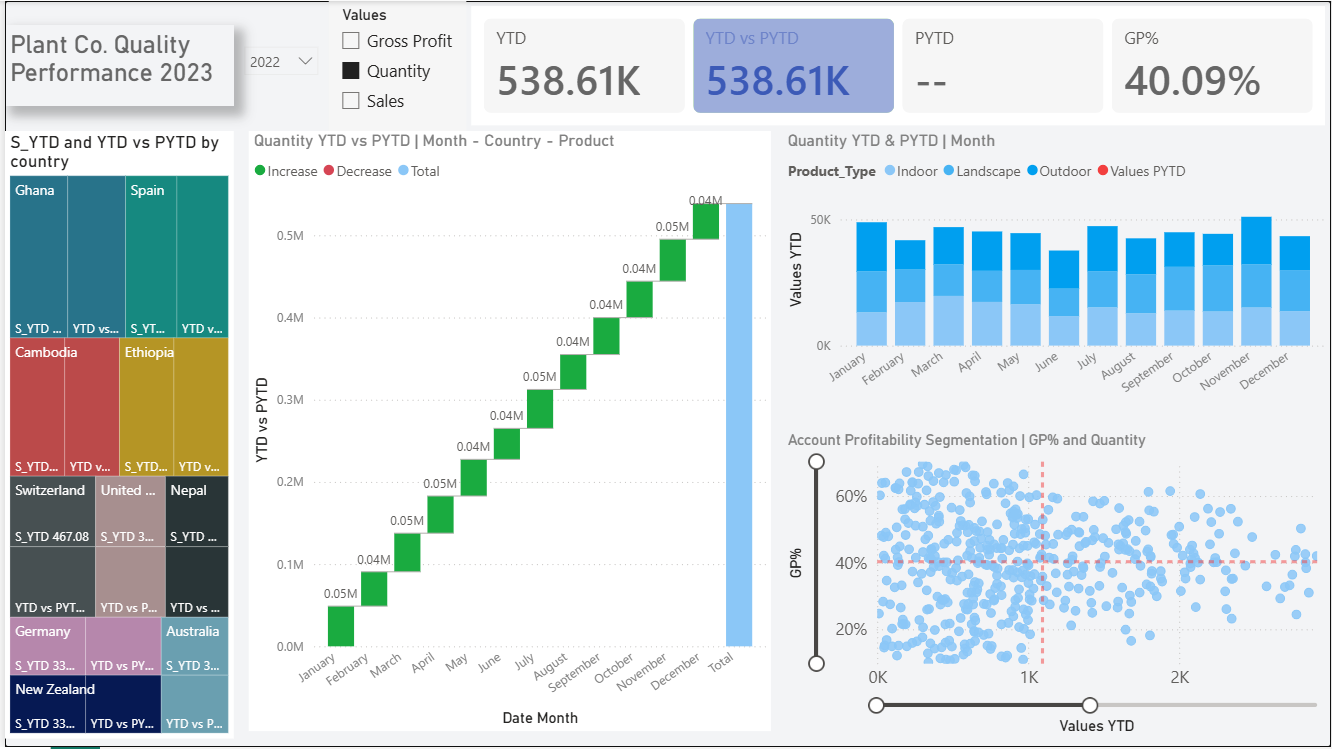

Layout of this report page (visuals, bound fields, positions):
{"tool":"powerbi","page":{"name":"Page 1","canvas":[1280,720],"ordinal":0},"visuals":[{"type":"cardVisual","fields":{"Data":["_Measures.S_YTD","_Measures.YTD vs PYTD","_Measures.S_PYTD","_Measures.GP%"]},"box":[445.2,0,834.9,125.5],"z":0},{"type":"slicer","fields":{"Values":["Dim_Date.Date.Variation.Date Hierarchy.Year"]},"box":[220.8,33.8,91.7,44.6],"z":1000},{"type":"slicer","fields":{"Values":["Slc_Values.Values"]},"box":[312.5,0,132.7,125.5],"z":2000},{"type":"treemap","fields":{"Values":["_Measures.S_YTD","_Measures.YTD vs PYTD"],"Group":["Dim_Accounts.country"]},"box":[0,125.5,220.8,586.3],"z":3000},{"type":"waterfallChart","fields":{"Y":["_Measures.YTD vs PYTD"],"Category":["Dim_Date.Date.Variation.Date Hierarchy.Month","Dim_Product.Produt_Type","Dim_Product.Product_Name"]},"box":[235.3,125.5,504.3,579.1],"z":4000},{"type":"lineStackedColumnComboChart","fields":{"Y":["_Measures.S_YTD"],"Y2":["_Measures.S_PYTD"],"Category":["Dim_Date.Date.Variation.Date Hierarchy.Month"],"Series":["Dim_Product.Produt_Type"]},"box":[750.4,125.5,529.6,275.1],"z":5000},{"type":"scatterChart","fields":{"Y":["_Measures.GP%"],"X":["_Measures.S_YTD"],"Category":["Dim_Accounts.Account"]},"box":[750.4,415,529.6,296.8],"z":6000},{"type":"textbox","box":[0,22.9,220.8,78.4],"z":7000}]}

Visuals, with their boxes in screenshot pixels (x1, y1, x2, y2), scaled from the page's 1280x720 canvas onto the 1332x749 screenshot:
cardVisual - _Measures.S_YTD x _Measures.YTD vs PYTD: {"x1": 463, "y1": 0, "x2": 1331, "y2": 131}
slicer - Dim_Date.Date.Variation.Date Hierarchy.Year: {"x1": 230, "y1": 35, "x2": 325, "y2": 82}
slicer - Slc_Values.Values: {"x1": 325, "y1": 0, "x2": 463, "y2": 131}
treemap - _Measures.S_YTD x _Measures.YTD vs PYTD: {"x1": 0, "y1": 131, "x2": 230, "y2": 740}
waterfallChart - _Measures.YTD vs PYTD x Dim_Date.Date.Variation.Date Hierarchy.Month: {"x1": 245, "y1": 131, "x2": 770, "y2": 733}
lineStackedColumnComboChart - _Measures.S_YTD x _Measures.S_PYTD: {"x1": 781, "y1": 131, "x2": 1331, "y2": 417}
scatterChart - _Measures.GP% x _Measures.S_YTD: {"x1": 781, "y1": 432, "x2": 1331, "y2": 740}
textbox: {"x1": 0, "y1": 24, "x2": 230, "y2": 105}
